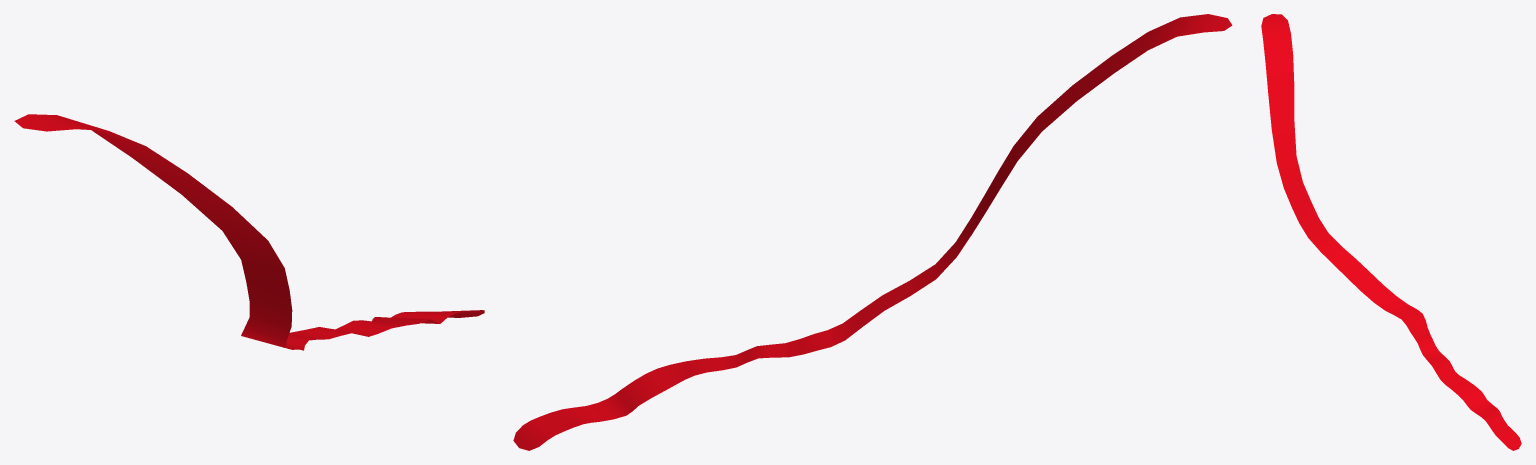
The model's file is hair6.fbx.
3 renders of one model, left to right at view 1: azimuth 30°, elevation 25°; view 2: azimuth 150°, elevation 25°; view 3: azimuth 270°, elevation 25°, orthographic. The views are drawn at different scales.
Visible parts, largest first — view 1: Plane.008; view 2: Plane.008; view 3: Plane.008.
Part boxes in pixels (<box>): Plane.008: <box>14,114,484,350</box>; Plane.008: <box>513,14,1232,450</box>; Plane.008: <box>1261,14,1521,450</box>.
Bounding box in the file's own units: 4501 × 3309 × 2910.
